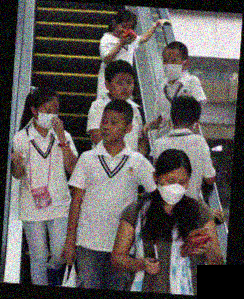with_mask: (157, 175, 190, 206), (35, 106, 60, 129), (161, 54, 184, 79)
without_mask: (98, 115, 123, 143), (109, 76, 135, 102), (112, 22, 135, 38)
